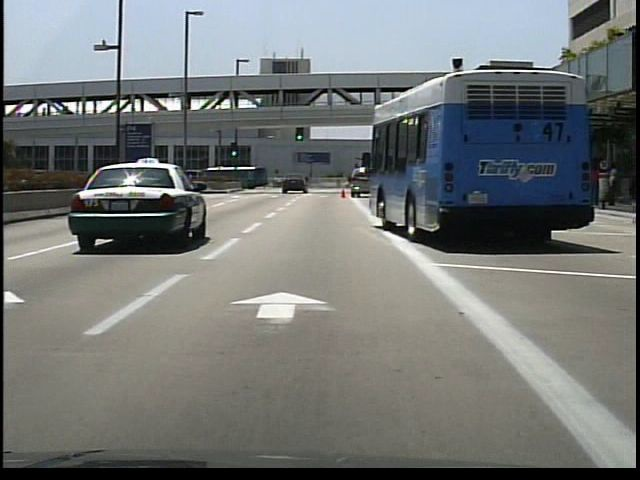person: (606, 160, 619, 209)
